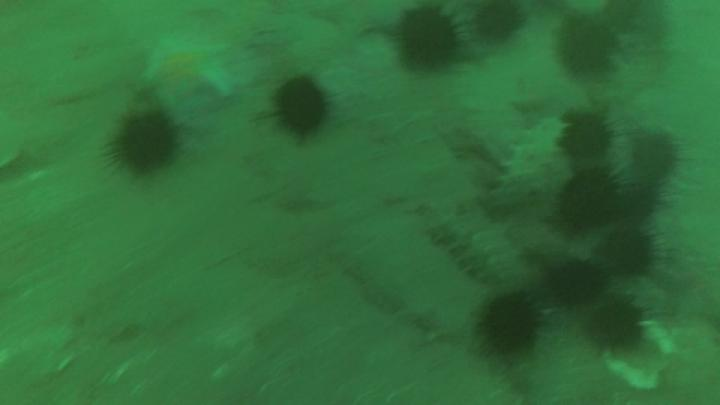echinus: (103, 99, 190, 184), (388, 4, 470, 79), (472, 286, 549, 365), (549, 11, 627, 86), (582, 288, 650, 357), (555, 164, 629, 227), (550, 103, 622, 164), (274, 70, 330, 146), (597, 221, 661, 279), (544, 252, 617, 302), (629, 123, 688, 184), (468, 1, 529, 49), (619, 177, 672, 227)
holothurian: (496, 104, 571, 203), (428, 216, 499, 285)
scallop: (606, 321, 675, 392)
starfish: (141, 33, 235, 105)
